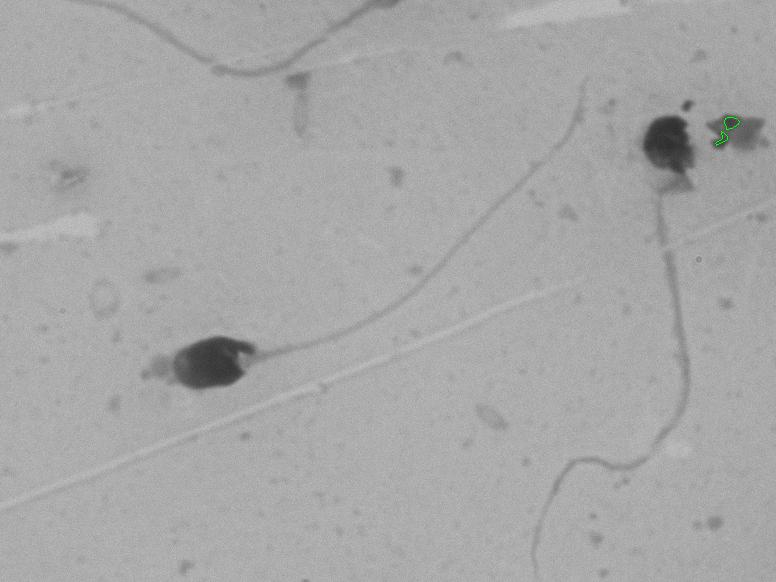Abnormal: (148, 51, 576, 429), (578, 90, 735, 524)
